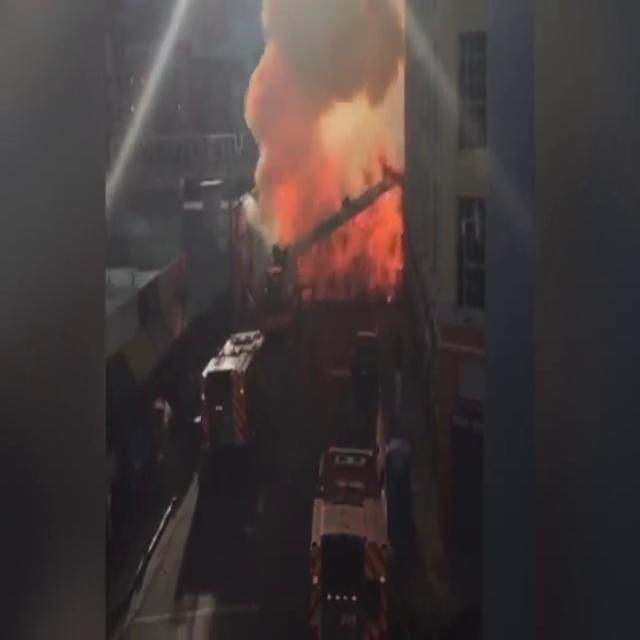Smoke: (231, 2, 417, 288)
